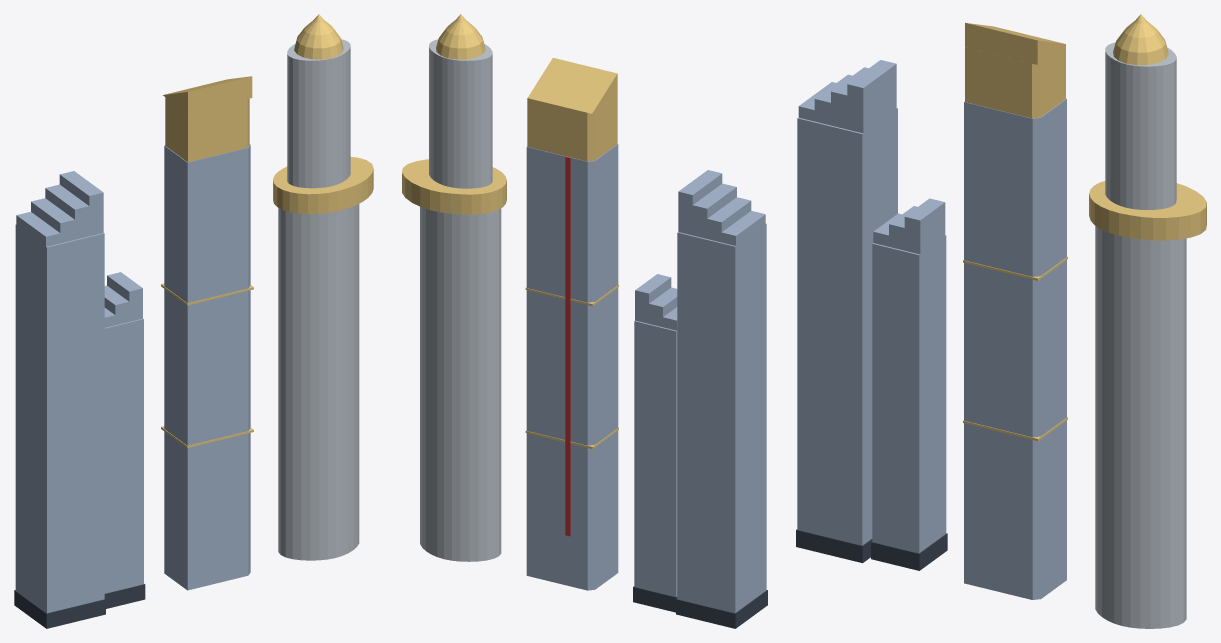
The model's file is melbourne_skyline.glb.
3 views of the same model, side by side, from view 1: azimuth 30°, elevation 25°; view 2: azimuth 150°, elevation 25°; view 3: azimuth 330°, elevation 25° (orthographic). The views are drawn at different scales.
Visible parts, largest first — view 1: rialto, eureka, australia108; view 2: rialto, eureka, australia108; view 3: rialto, eureka, australia108.
Boxes of the visible parts, box(x1,y1,x2,y2) form: rialto: box(14, 171, 145, 628); eureka: box(161, 76, 253, 590); australia108: box(273, 14, 373, 560); rialto: box(633, 170, 767, 628); eureka: box(525, 58, 618, 590); australia108: box(402, 14, 506, 561); rialto: box(796, 60, 947, 570); eureka: box(963, 22, 1067, 599); australia108: box(1089, 14, 1206, 628).
Size of the model in its own units: 214 by 317 by 43.53.
